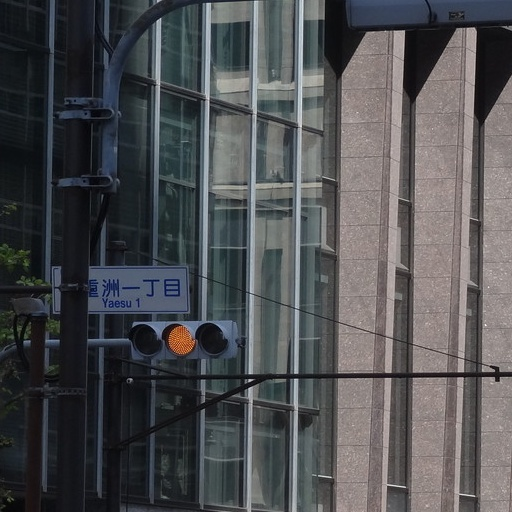Traffic_Signal_Yellow: (126, 312, 241, 360)
